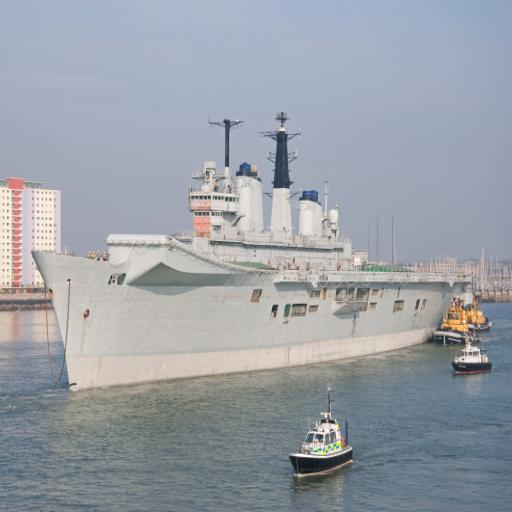Portanaves: (32, 109, 480, 399)
